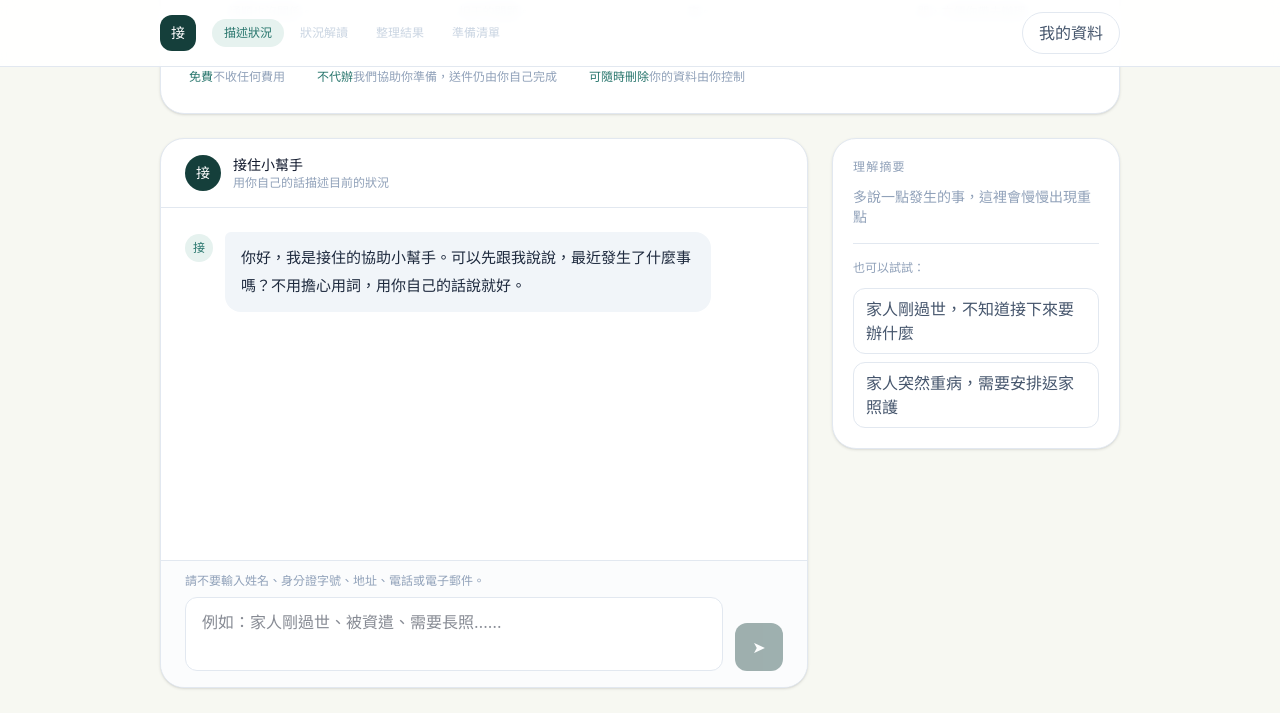
NavigatorFlow › does not treat "還在工作" (still employed) as a jobless signal
The width and height of the screenshot is (1280, 713).
(page scrolled)
Type "家裡最近生活很困難，錢快不夠用了" into the text box named "輸入訊息" at x=454, y=634, box [185, 597, 723, 671]
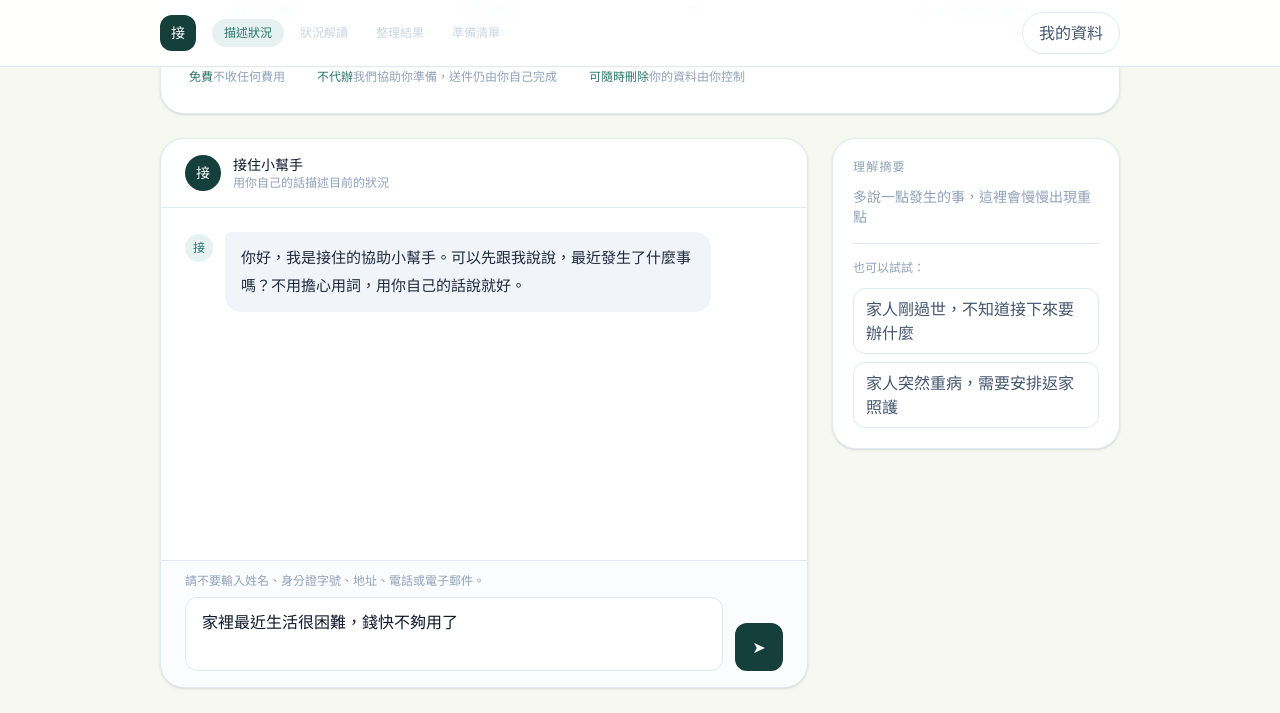
Click the button named "送出" at x=759, y=647, box [735, 623, 783, 671]
(page scrolled)
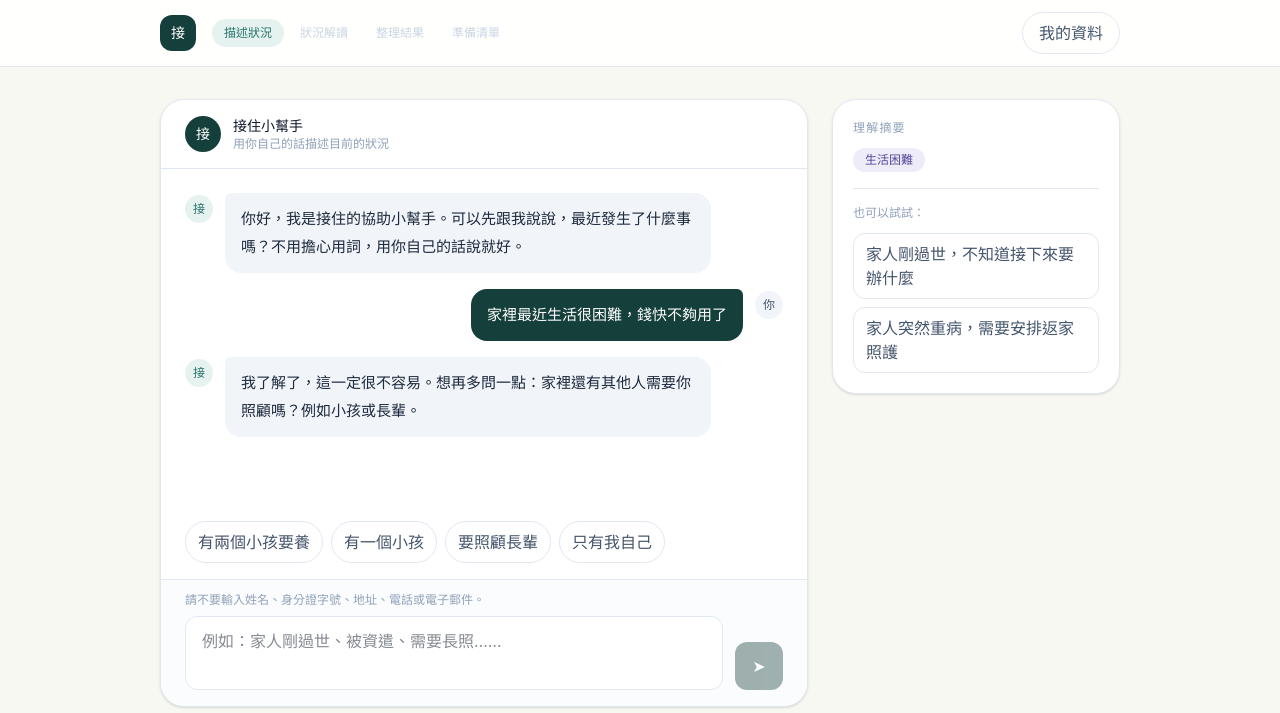
Check: the text "生活困難" is shown, box [853, 148, 925, 172]
Click the button "只有我自己" at x=612, y=542, box [559, 521, 665, 563]
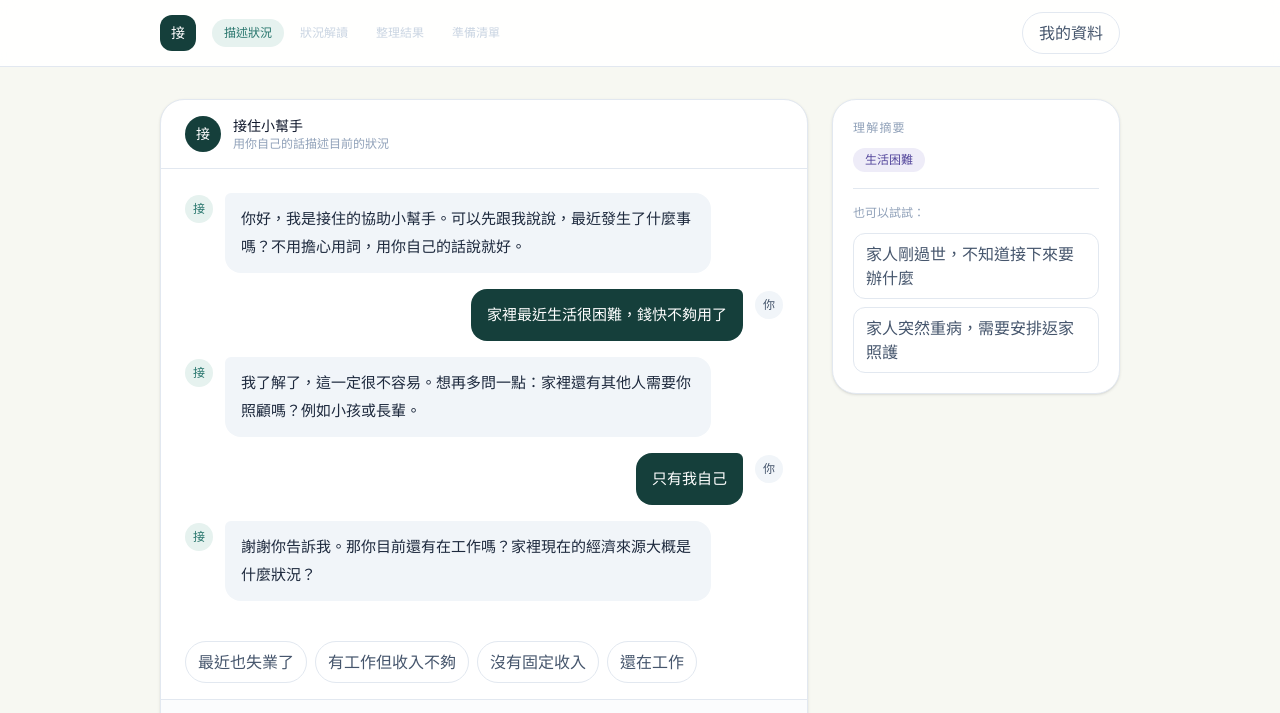
Click the button "還在工作" at x=652, y=662, box [607, 641, 697, 683]
(page scrolled)
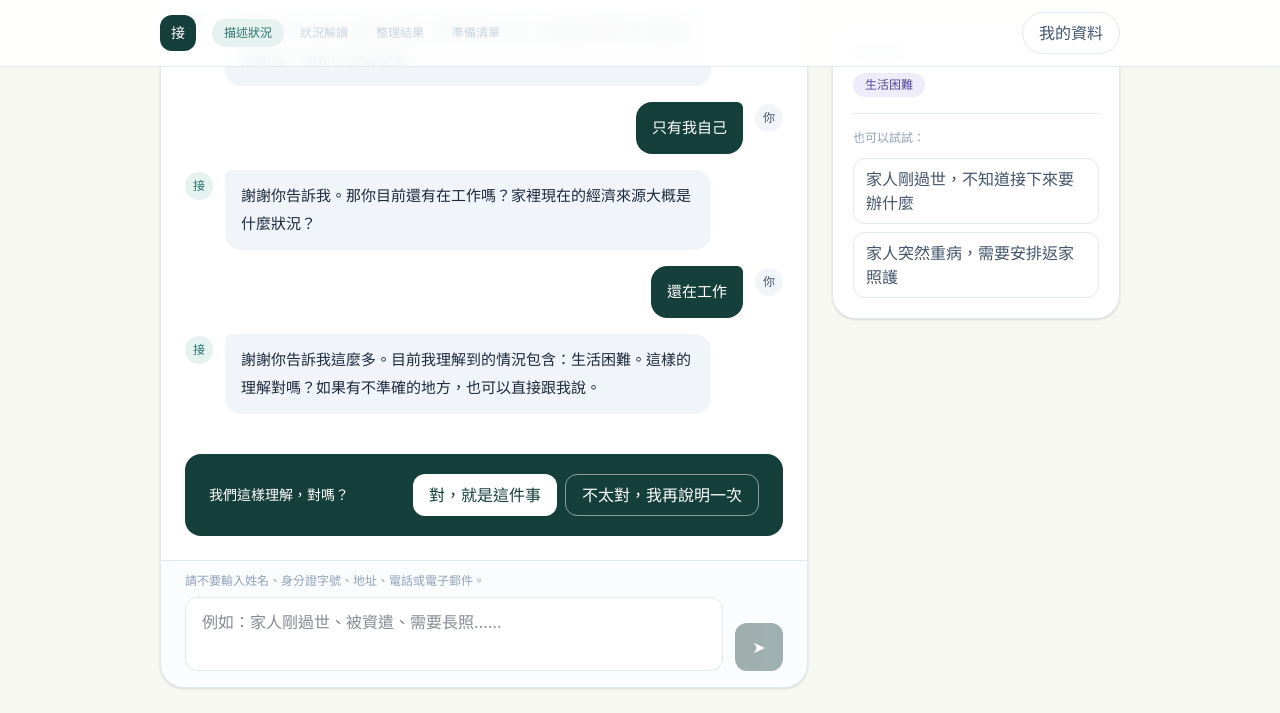
Check: the button "對，就是這件事" is shown, box [413, 474, 557, 516]
